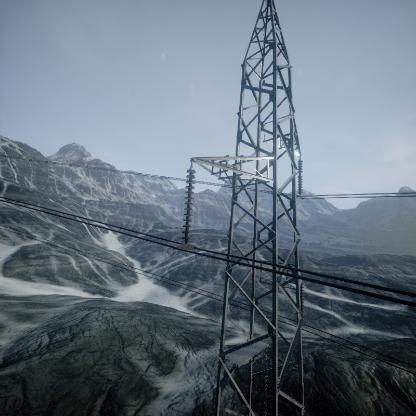insulator: (181, 165, 198, 244), (296, 158, 305, 197)
